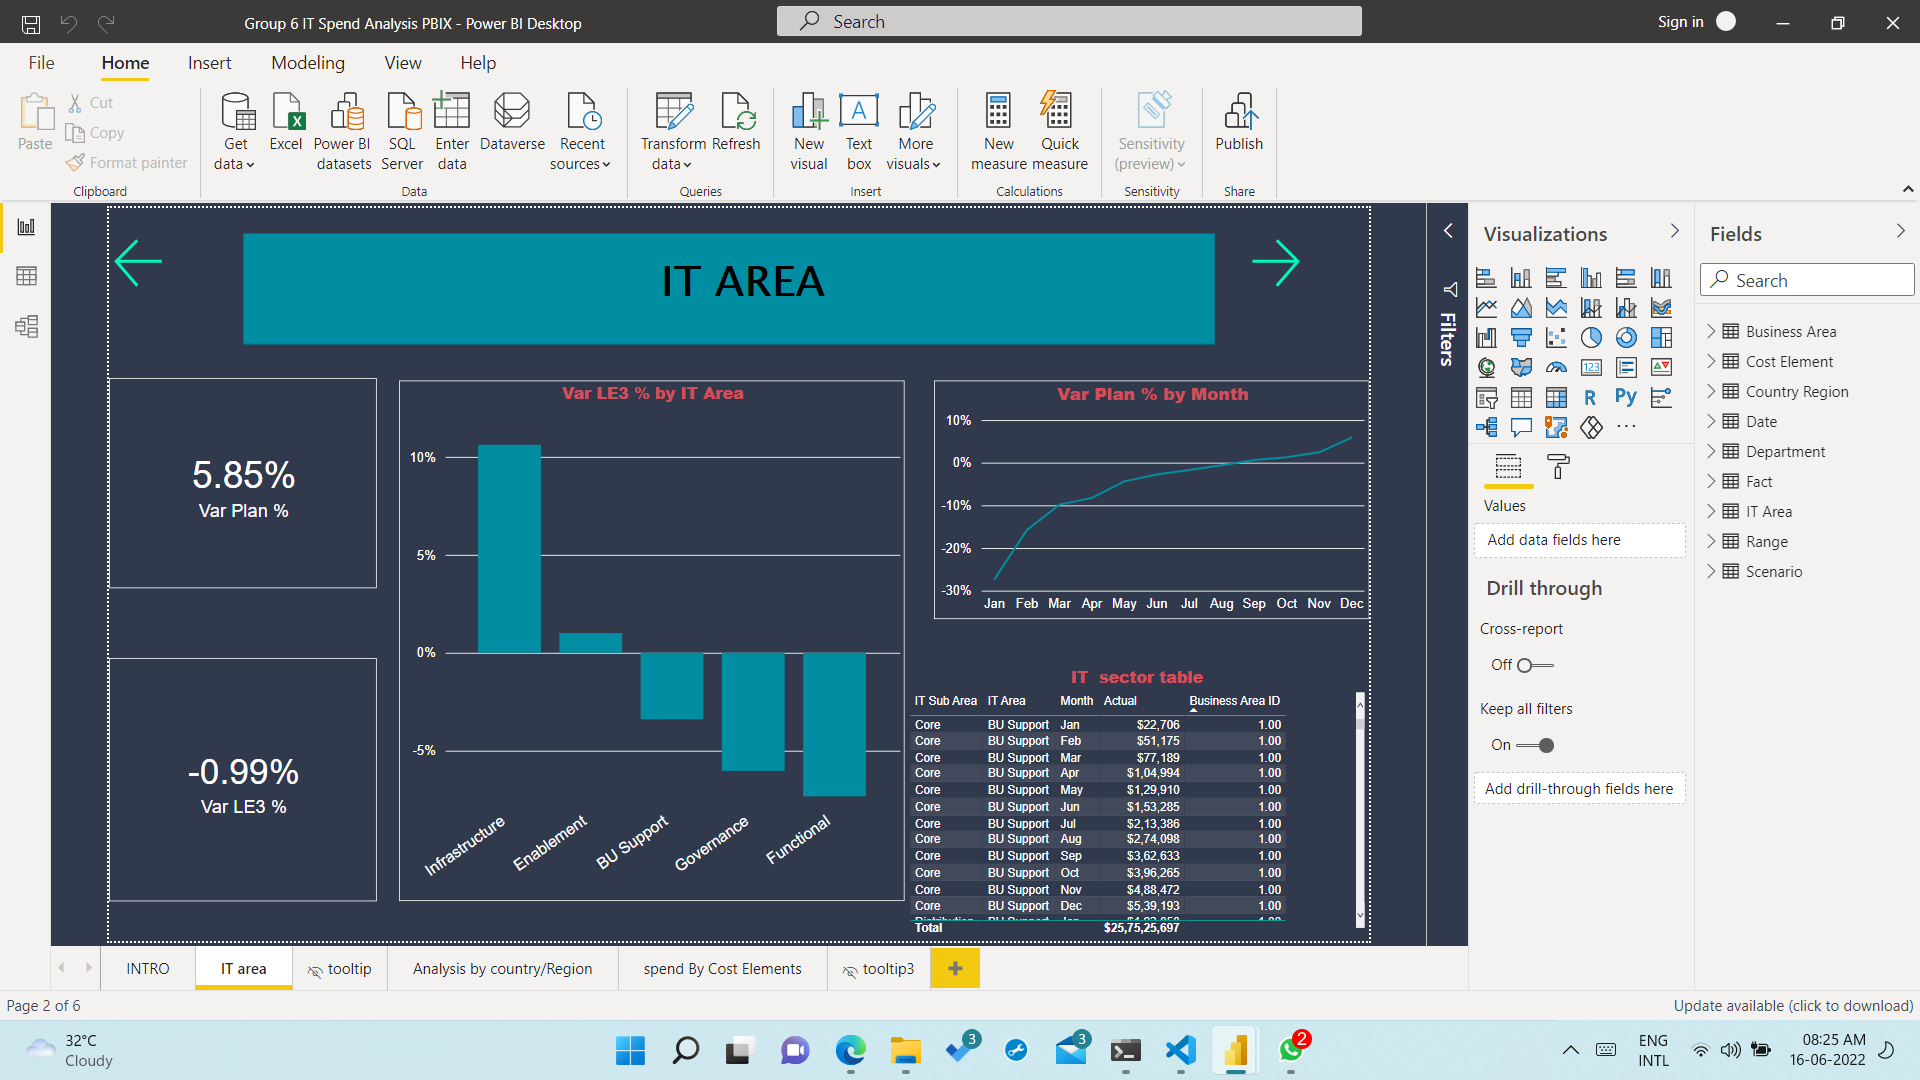

The page's visual inventory and layout, read from the dashboard file:
{"tool":"powerbi","page":{"name":"IT area","canvas":[1280,720],"ordinal":1},"visuals":[{"type":"columnChart","fields":{"Category":["IT Area.IT Area"],"Y":["Fact.Var LE3 %"]},"box":[294.1,149.8,513.3,528.6],"z":0},{"type":"card","fields":{"Values":["Fact.Var Plan %"]},"box":[0,147.1,271.9,213.6],"z":1000},{"type":"lineChart","fields":{"Y":["Fact.Var Plan %"],"Category":["Date.Month"]},"box":[837.9,149.8,442.5,242.8],"z":2000},{"type":"tableEx","title":"IT  sector table","fields":{"Values":["IT Area.IT Sub Area","IT Area.IT Area","Date.Month","Fact.Actual","Fact.Business Area ID"]},"box":[807.4,439.8,473.1,280.2],"z":3000},{"type":"actionButton","box":[1154.2,0,126.2,61],"z":4000},{"type":"actionButton","box":[0,0,147.1,61],"z":5000},{"type":"card","fields":{"Values":["Fact.Var LE3 %"]},"box":[0,431.4,271.9,246.9],"z":6000},{"type":"shape","box":[136,0,987.7,113.8],"z":7000},{"type":"textbox","box":[228.9,12.5,831,86],"z":8000}]}

Visuals, with their boxes on the page's 1280x720 design canvas (x1, y1, x2, y2). These are canvas units, not pixel positions in the 1920x1080 screenshot, which may show the page scaled, cropped or inside an application window:
columnChart - IT Area.IT Area x Fact.Var LE3 %: locate(294, 150, 807, 678)
card - Fact.Var Plan %: locate(0, 147, 272, 361)
lineChart - Fact.Var Plan % x Date.Month: locate(838, 150, 1280, 393)
"IT  sector table" tableEx: locate(807, 440, 1280, 720)
actionButton: locate(1154, 0, 1280, 61)
actionButton: locate(0, 0, 147, 61)
card - Fact.Var LE3 %: locate(0, 431, 272, 678)
shape: locate(136, 0, 1124, 114)
textbox: locate(229, 12, 1060, 98)
